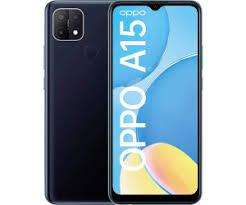Smartphone: (103, 4, 204, 205), (47, 1, 129, 205)
